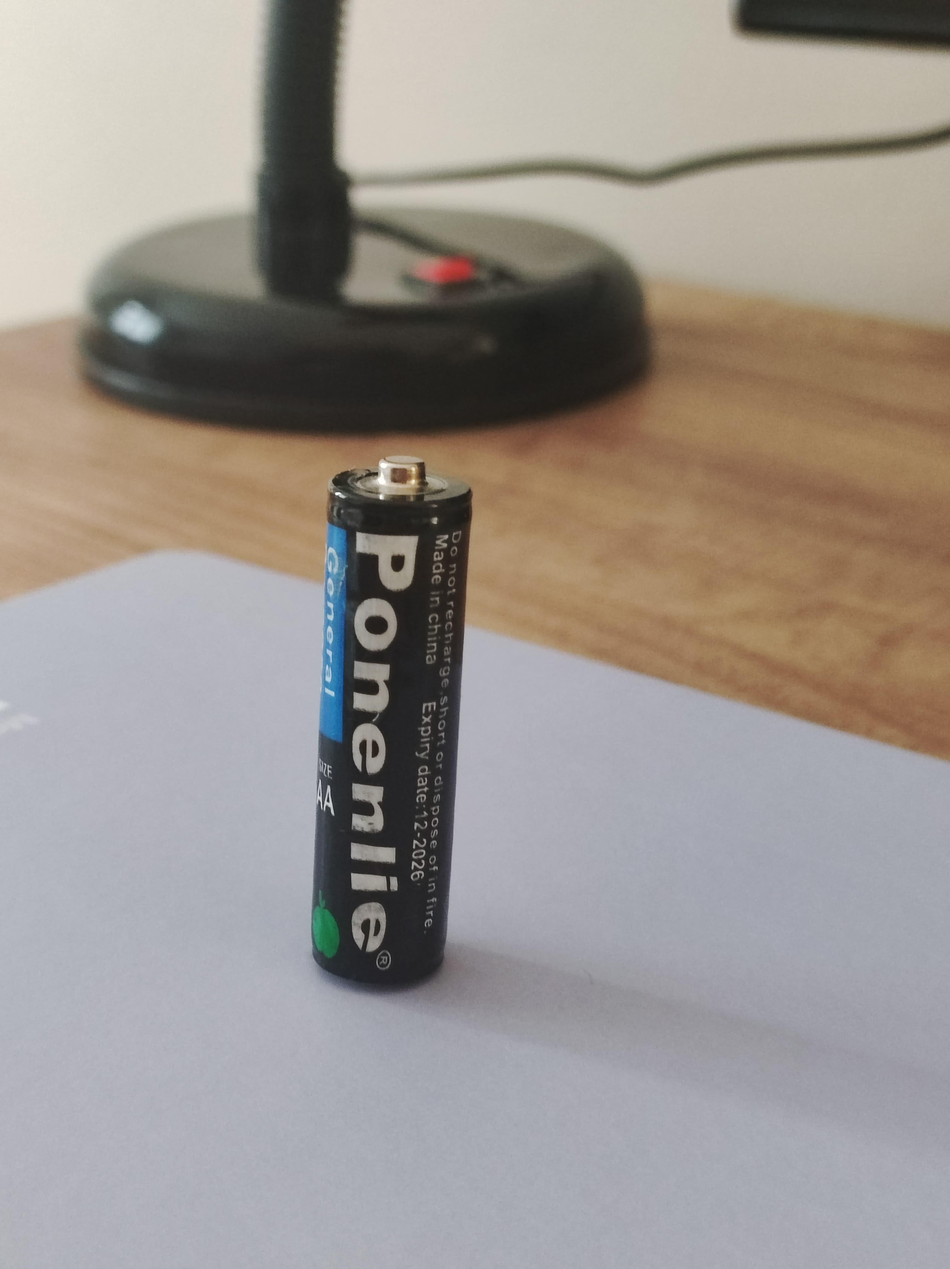AA: (307, 449, 478, 998)
